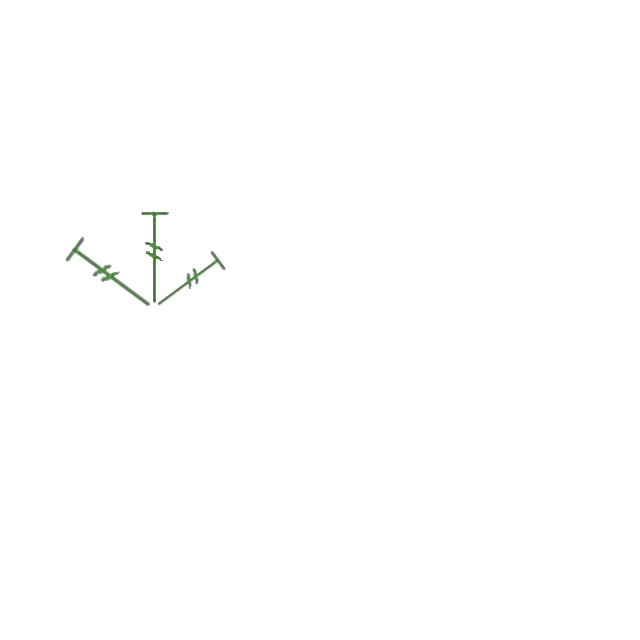fan: (60, 231, 166, 323), (146, 246, 231, 320), (137, 207, 173, 308)
